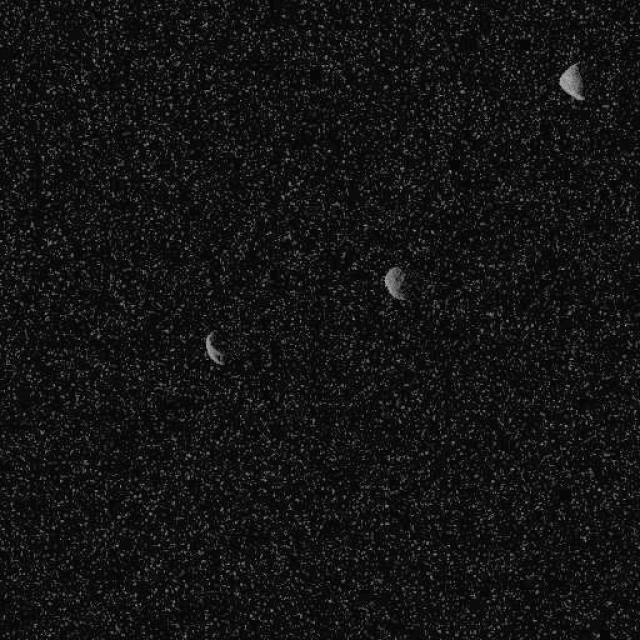D2: (557, 60, 585, 101), (382, 265, 408, 301), (203, 329, 225, 366)
